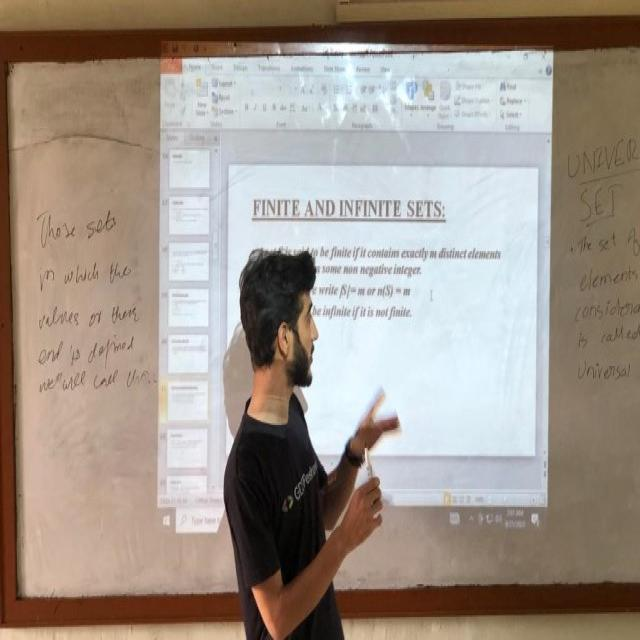Instructor: (194, 215, 364, 640)
Slide: (154, 37, 554, 536)
White-board: (6, 31, 640, 620)
